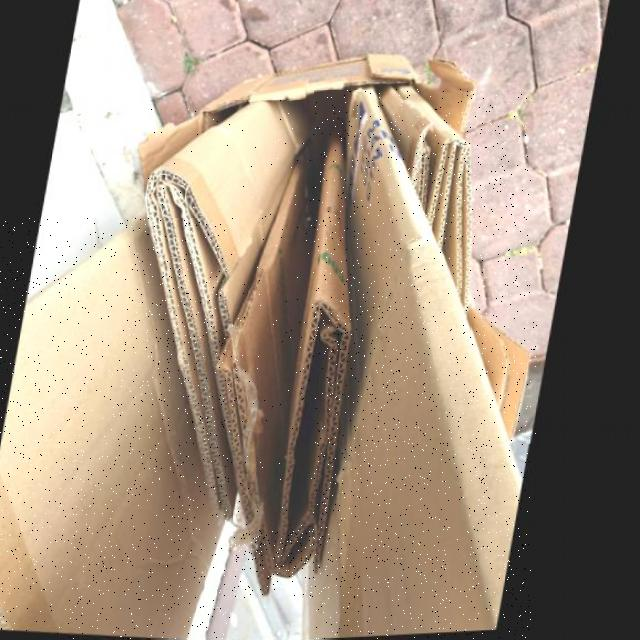paper: (315, 91, 531, 639), (0, 219, 233, 639), (148, 101, 313, 530), (221, 131, 358, 598), (381, 88, 476, 311), (472, 306, 537, 444)
